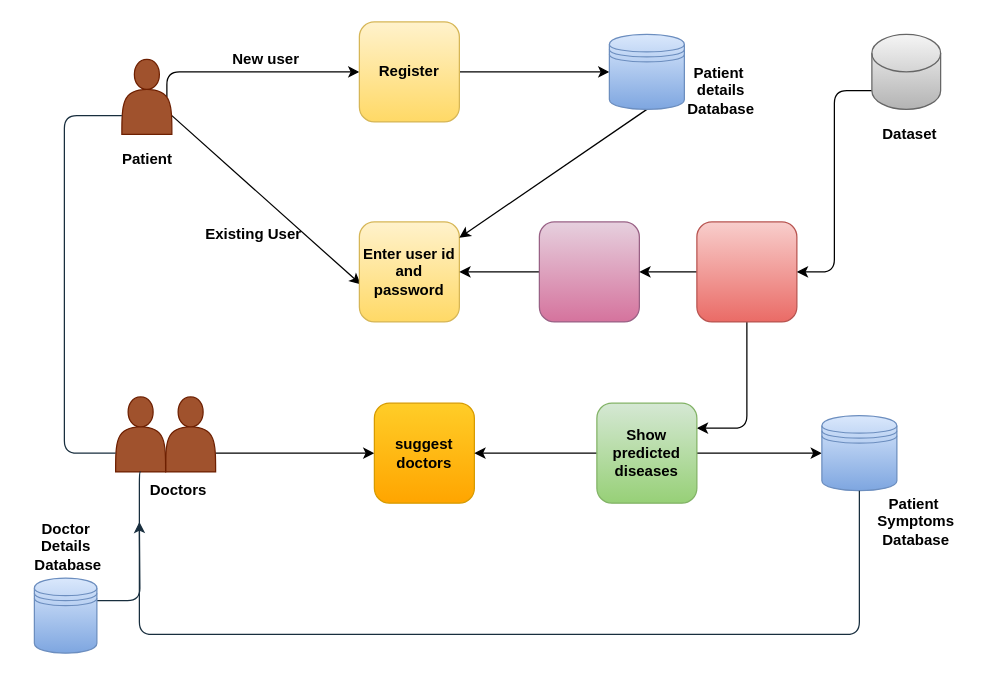
Image size: 986x675. Some labels were removed from this diagram. Each missing label, with the centre of its shape:
"give symptoms" goes at point (588, 271).
"Trained model" goes at point (746, 271).
